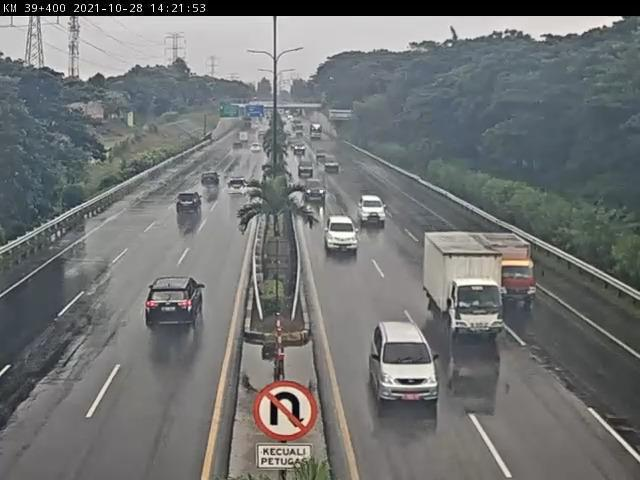car: (370, 322, 440, 408), (147, 276, 208, 331), (325, 216, 362, 255), (358, 194, 389, 229), (174, 192, 205, 219), (225, 176, 253, 200), (306, 178, 329, 201), (202, 168, 224, 188), (322, 154, 341, 172), (298, 160, 316, 175), (294, 141, 309, 158), (250, 143, 266, 156), (232, 138, 246, 152), (315, 147, 328, 160)
truck: (425, 234, 506, 337), (483, 237, 537, 306)
